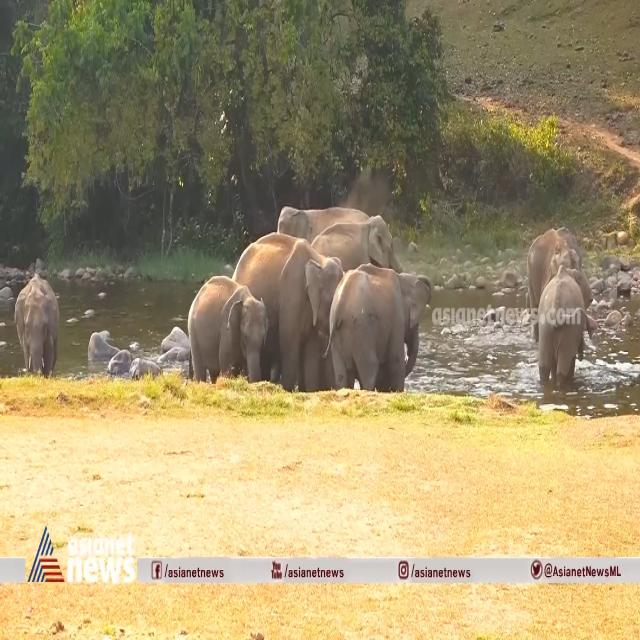ELEPHANT: (326, 272, 426, 398), (14, 267, 71, 376)
